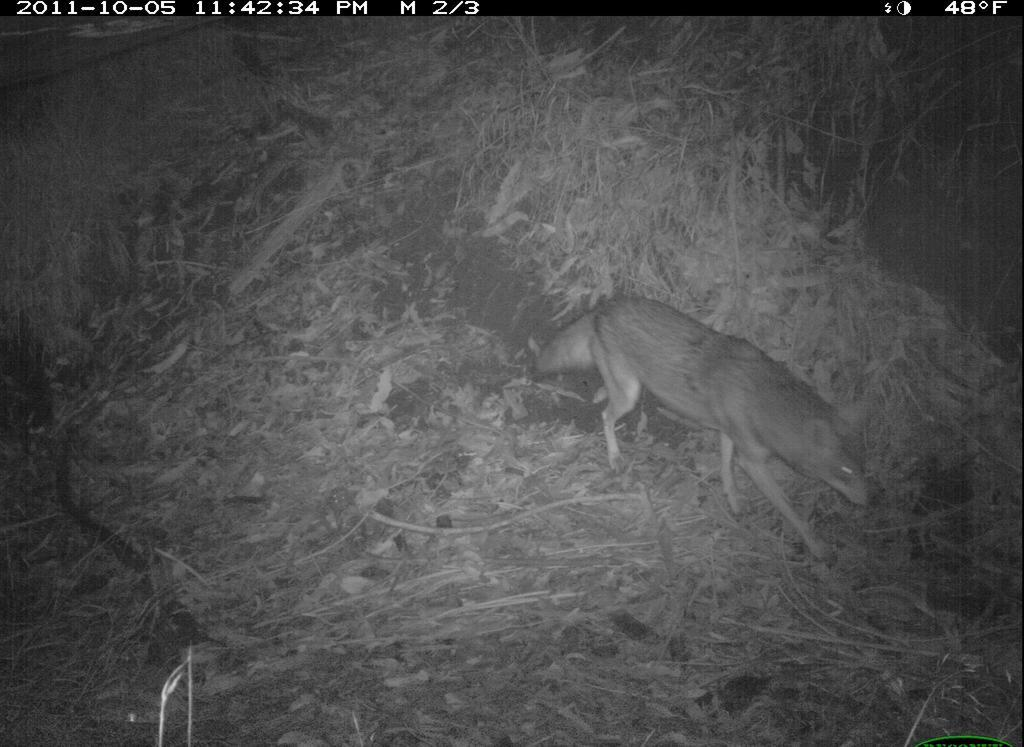coyote: (538, 286, 880, 569)
